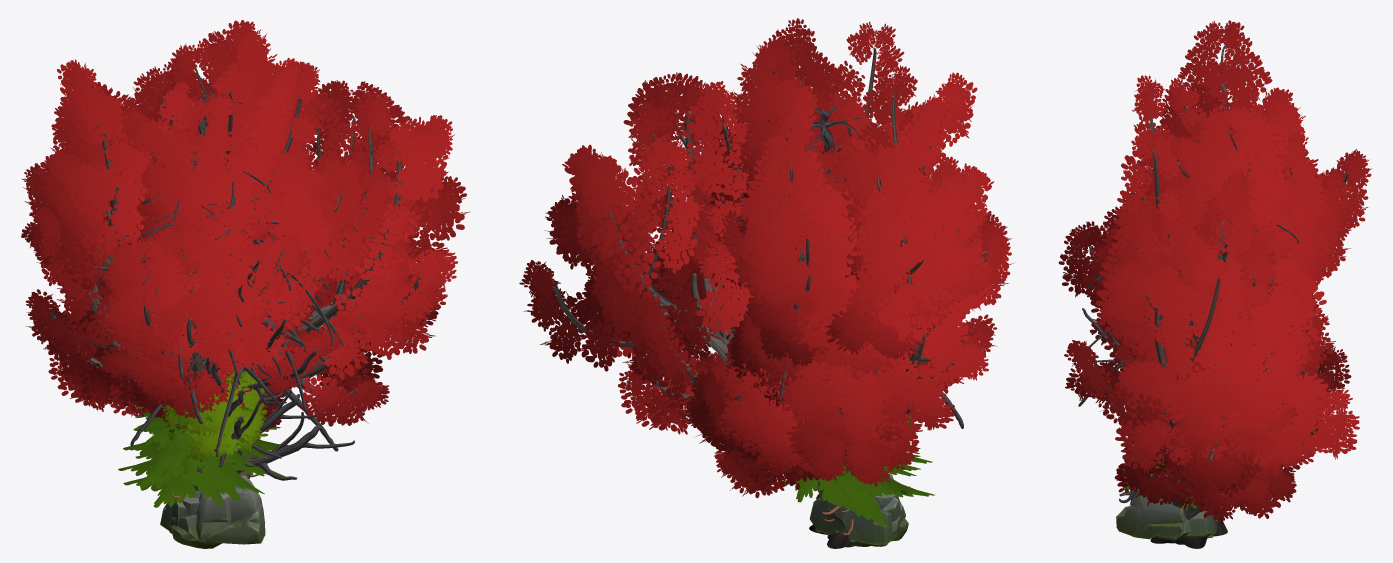
File: nature.glb
3 renders of one model, left to right at view 1: azimuth 30°, elevation 25°; view 2: azimuth 150°, elevation 25°; view 3: azimuth 270°, elevation 25°, orthographic. The views are drawn at different scales.
Visible parts, largest first — view 1: TwistedTree_2, TwistedTree_1, TwistedTree_3, TwistedTree_4, TwistedTree_5, Rock_Medium_3, DeadTree_2, Pine_2, Pine_5, DeadTree_4, Pine_4, DeadTree_5 (+6 smaller); view 2: TwistedTree_1, TwistedTree_2, TwistedTree_4, TwistedTree_3, TwistedTree_5, Rock_Medium_2, Pine_5, DeadTree_5, Pine_2; view 3: TwistedTree_1, TwistedTree_4, TwistedTree_2, TwistedTree_3, TwistedTree_5, Rock_Medium_3, Rock_Medium_2.
Boxes of the visible parts, box(x1,y1,x2,y2) form: TwistedTree_2: box(21, 59, 320, 490); TwistedTree_1: box(145, 60, 469, 533); TwistedTree_3: box(48, 92, 394, 418); TwistedTree_4: box(66, 20, 367, 433); TwistedTree_5: box(91, 98, 345, 319); Rock_Medium_3: box(172, 475, 265, 548); DeadTree_2: box(182, 245, 354, 480); Pine_2: box(123, 424, 272, 507); Pine_5: box(118, 413, 288, 502); DeadTree_4: box(182, 207, 343, 456); Pine_4: box(123, 393, 267, 497); DeadTree_5: box(97, 87, 338, 451); TwistedTree_1: box(519, 72, 887, 548); TwistedTree_2: box(721, 18, 1013, 441); TwistedTree_4: box(710, 37, 937, 489); TwistedTree_3: box(683, 99, 1011, 498); TwistedTree_5: box(709, 119, 924, 410); Rock_Medium_2: box(809, 492, 896, 544); Pine_5: box(785, 433, 925, 519); DeadTree_5: box(709, 91, 963, 428); Pine_2: box(779, 448, 934, 527); TwistedTree_1: box(1064, 171, 1359, 548); TwistedTree_4: box(1080, 84, 1372, 380); TwistedTree_2: box(1100, 20, 1318, 376); TwistedTree_3: box(1058, 163, 1351, 513); TwistedTree_5: box(1111, 166, 1350, 379); Rock_Medium_3: box(1116, 495, 1186, 539); Rock_Medium_2: box(1186, 510, 1216, 537).
Bounding box in the file's own units: 17.96 × 19.08 × 12.13.
12 materials, 12 textured.
